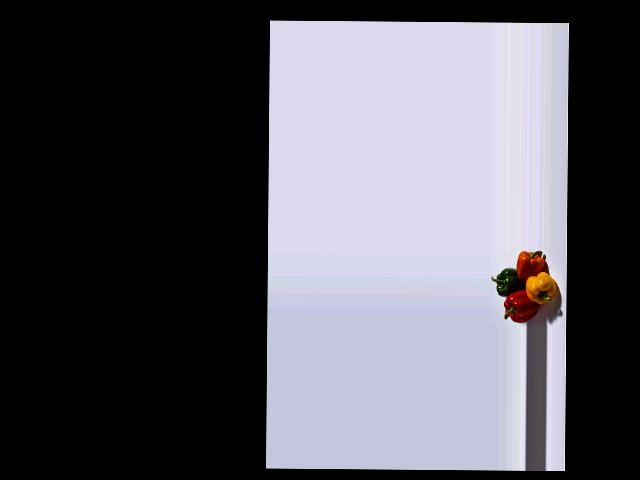bell_pepper: (500, 289, 539, 324)
